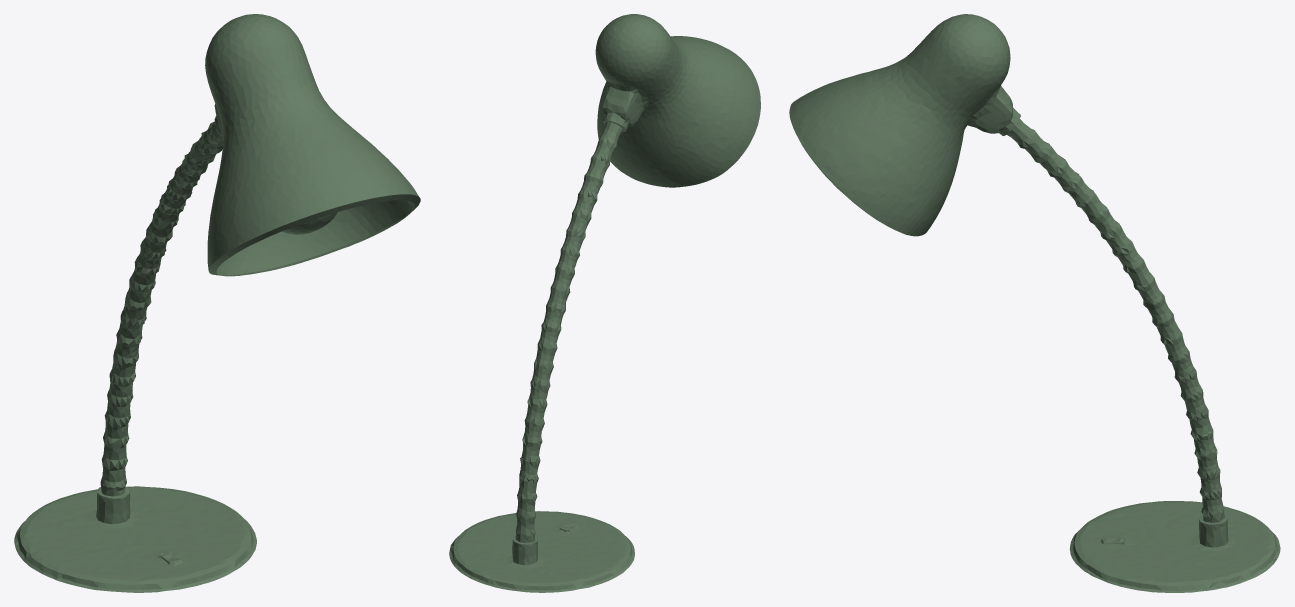
File: lamp3_final4.obj
The picture shows the model from 3 angles, left to right: view 1: azimuth 30°, elevation 25°; view 2: azimuth 150°, elevation 25°; view 3: azimuth 270°, elevation 25°; orthographic projection. The views are drawn at different scales.
Size of the model in its own units: 0.5546 by 1.54 by 1.29.
